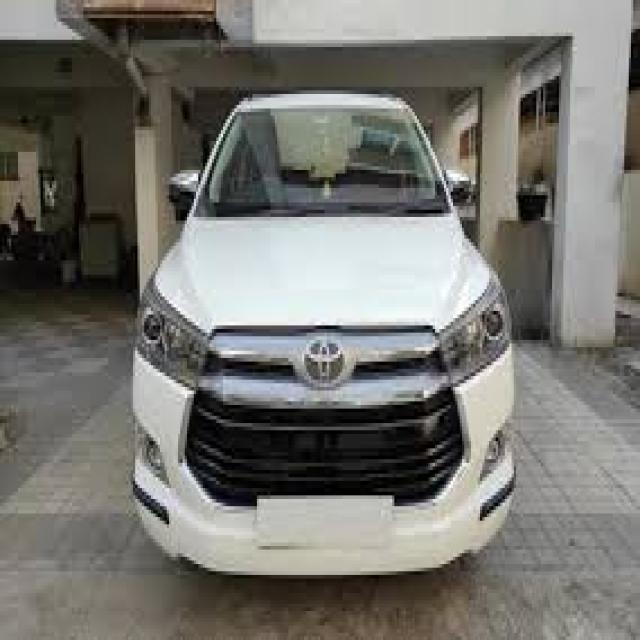light_vehicle: (132, 87, 515, 580)
